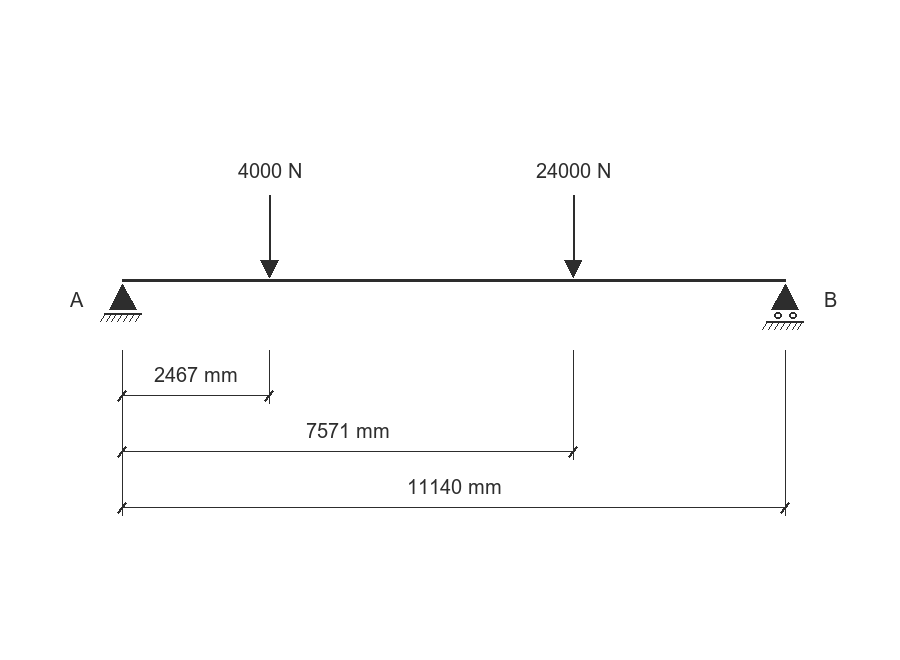pin_support: (100, 284, 142, 322)
point_load: (260, 195, 279, 278), (564, 195, 582, 278)
roller_support: (762, 284, 804, 330)
